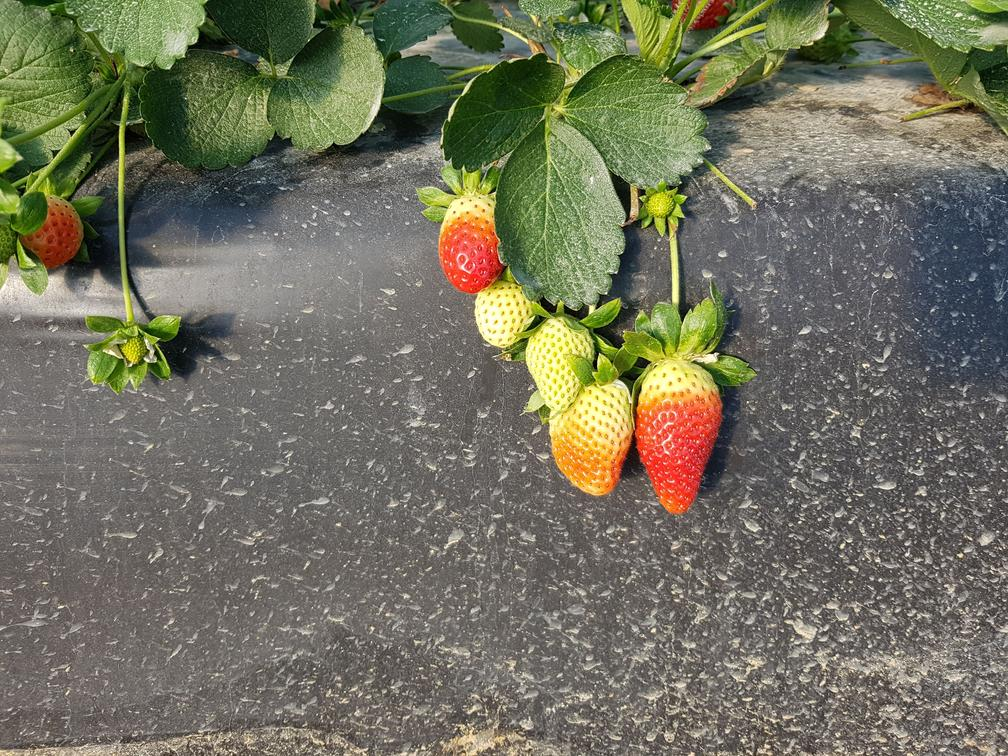Ripe: (636, 365, 726, 521), (441, 214, 502, 290), (35, 195, 84, 268)
Unripe: (559, 396, 634, 495), (529, 331, 592, 414), (475, 284, 543, 343)
